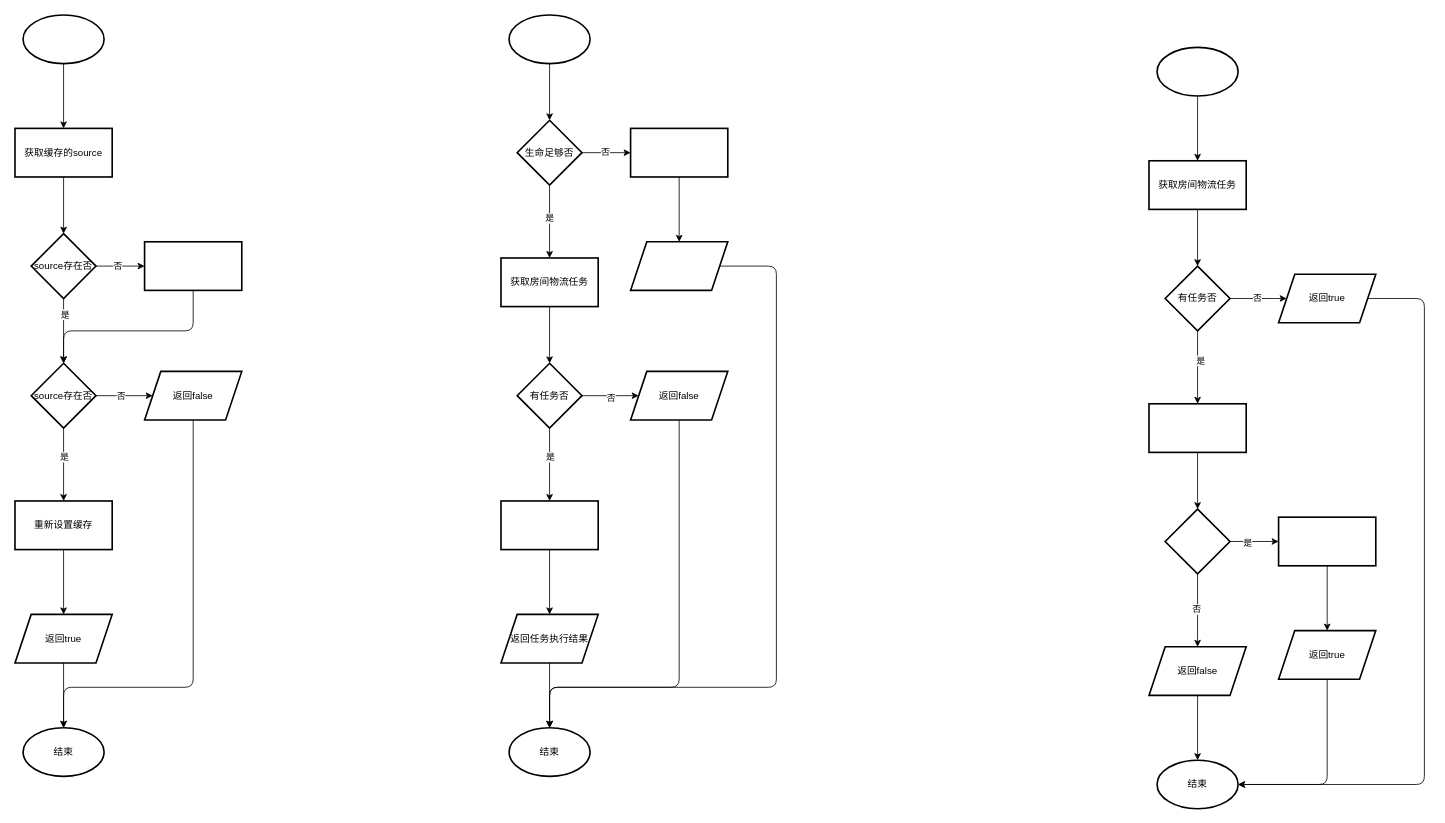
This 1445x823 diagram has some shape labels left out. Here are the shapes that lost their labels. From the top down, the box of each, then its label:
(22, 14, 104, 64): prepare
(508, 14, 590, 64): source
(1156, 46, 1238, 96): target
(629, 127, 728, 177): 濒死处理
(143, 241, 242, 291): 搜索container和source
(629, 241, 728, 291): 返回处理结果
(1148, 403, 1247, 453): 执行任务target阶段
(500, 500, 599, 550): 执行任务source阶段
(1164, 508, 1230, 574): 成功否
(1277, 516, 1376, 566): 结束任务
